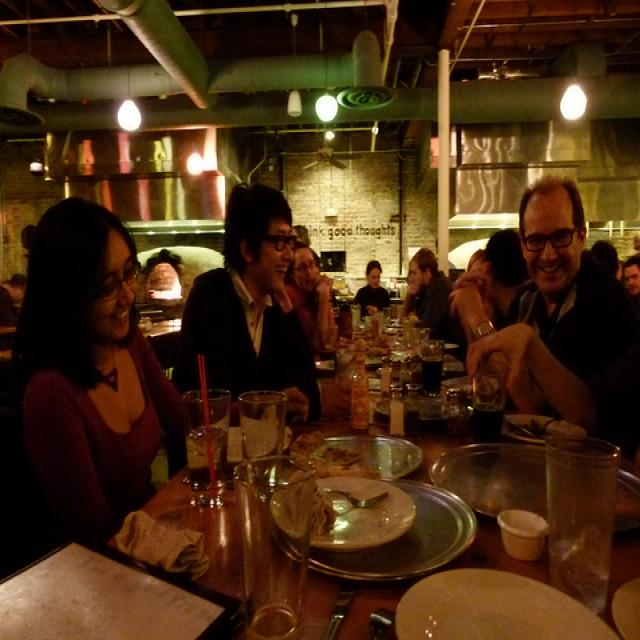Cup: (233, 452, 334, 640), (546, 408, 625, 620), (182, 386, 230, 509), (229, 374, 286, 457), (470, 349, 514, 438), (424, 330, 449, 393)
People: (7, 198, 140, 552), (510, 165, 640, 470), (202, 175, 302, 400), (457, 211, 516, 371), (294, 223, 339, 337), (399, 238, 443, 321), (348, 243, 387, 323), (608, 218, 640, 304)
Table: (2, 221, 610, 640)
